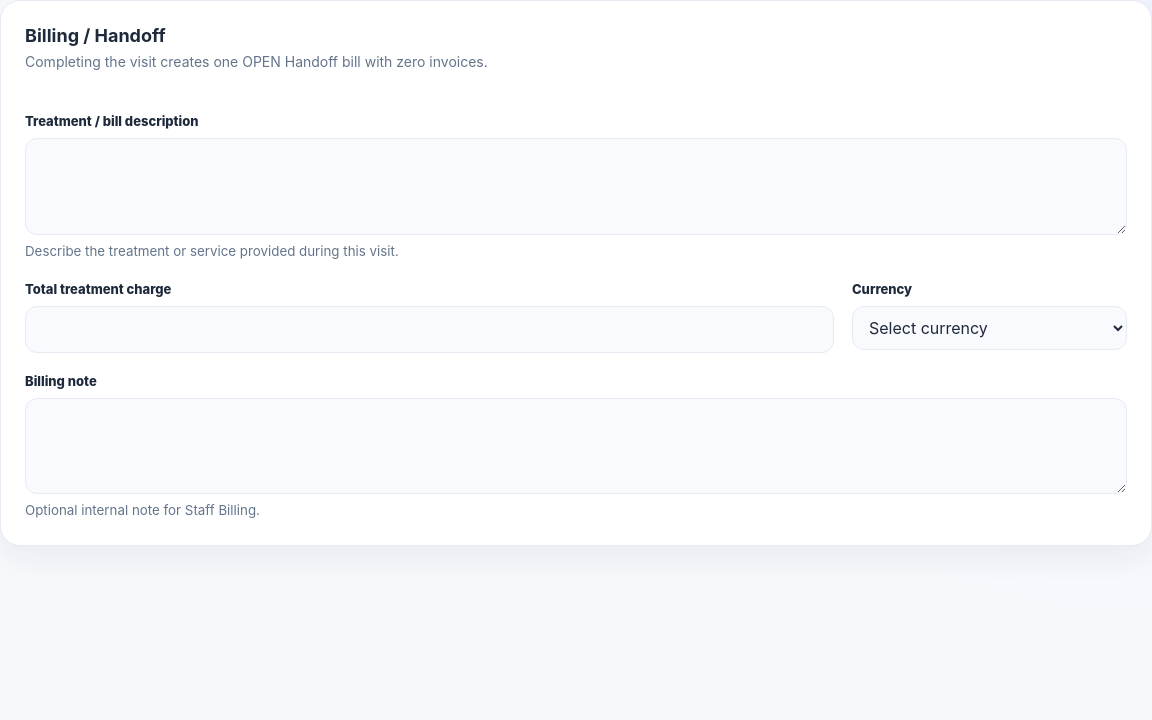
Scenario: VisitBillingSection › keeps the active-visit billing form editable and uses the clinic currency
Check: the text "Completing the visit creates one OPEN Handoff bill with zero invoices." is shown, box [25, 53, 488, 70]
Step 1. Type "Restorative dental treatment" into the text box labelled "Treatment / bill description" → (576, 186), box [25, 138, 1127, 234]
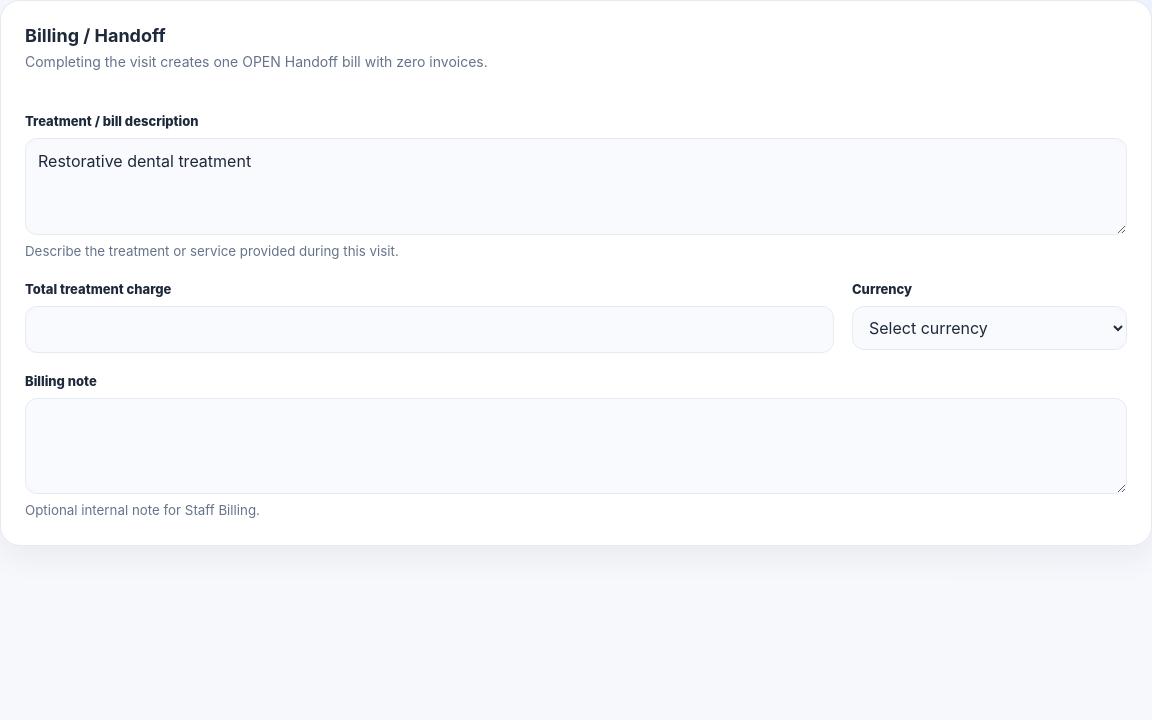
Step 2. Type "250.00" into the field labelled "Total treatment charge" → (430, 329), box [25, 306, 834, 353]
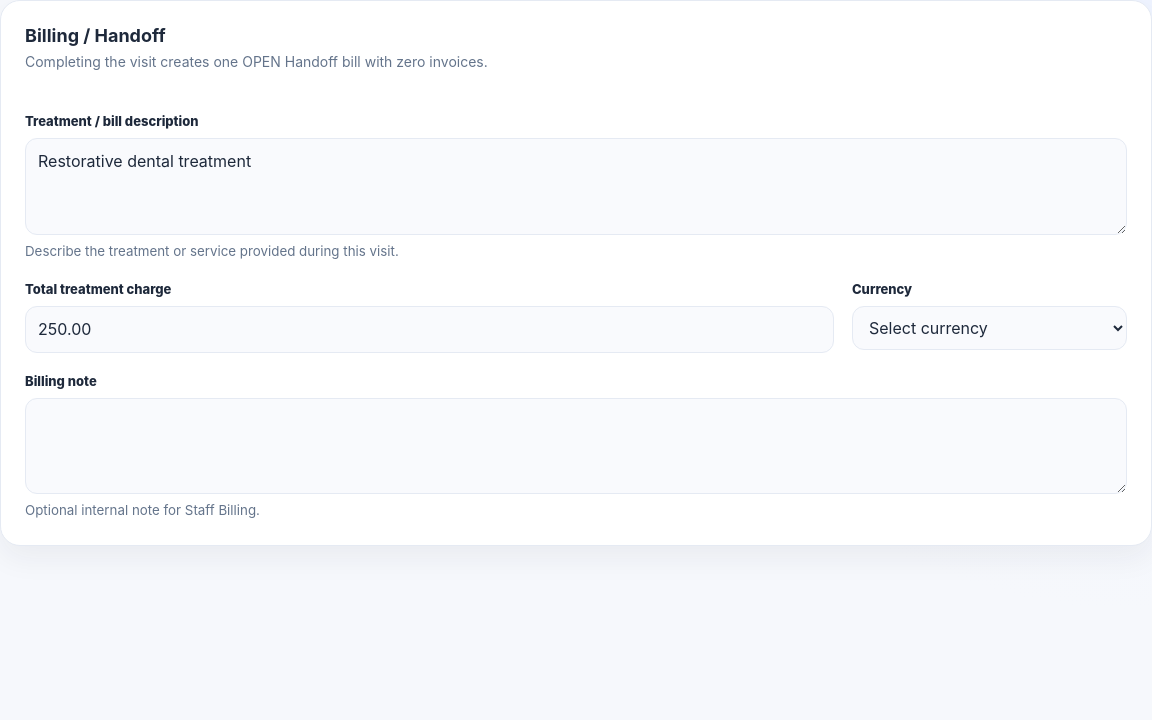
Step 3. Type "Collect at reception" into the text box labelled "Billing note" → (576, 446), box [25, 398, 1127, 494]
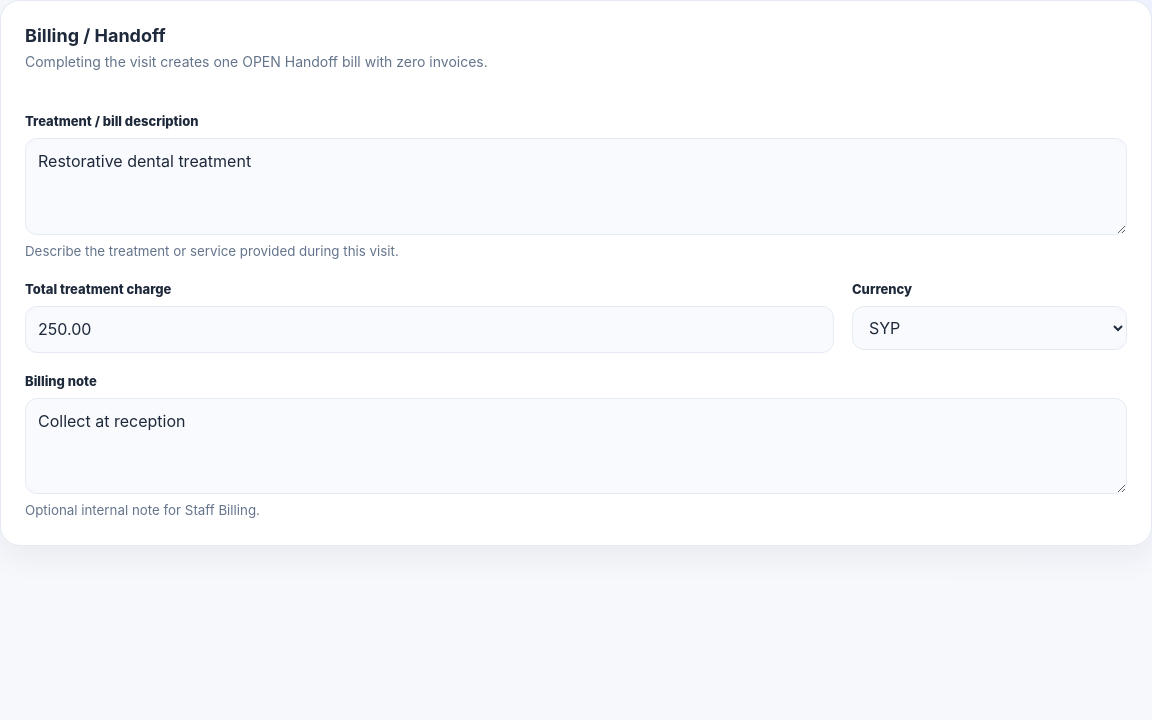
Check: the dropdown labelled "Currency" shows "SYP", box [852, 306, 1127, 350]
